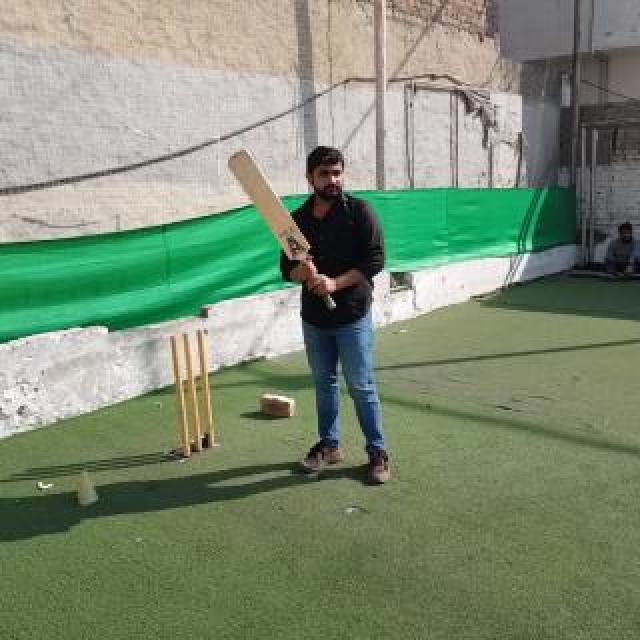bat: (229, 148, 335, 310)
